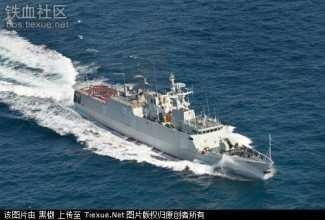warship: (70, 74, 284, 179)
